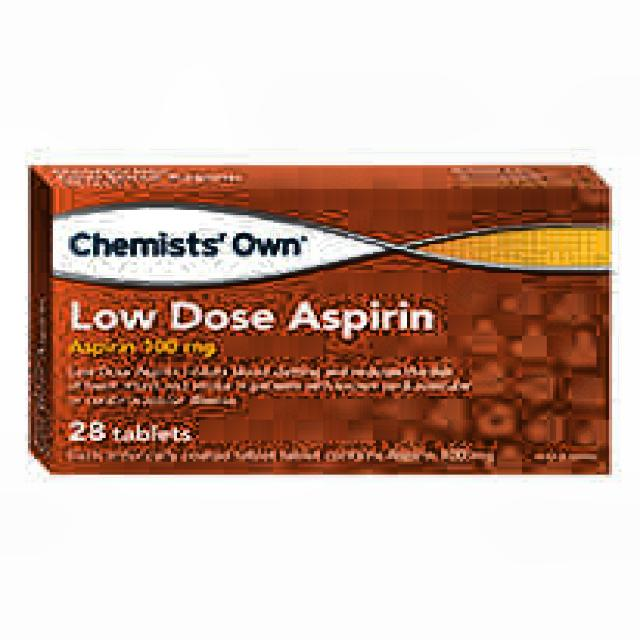Aspirin: (54, 194, 609, 464)
